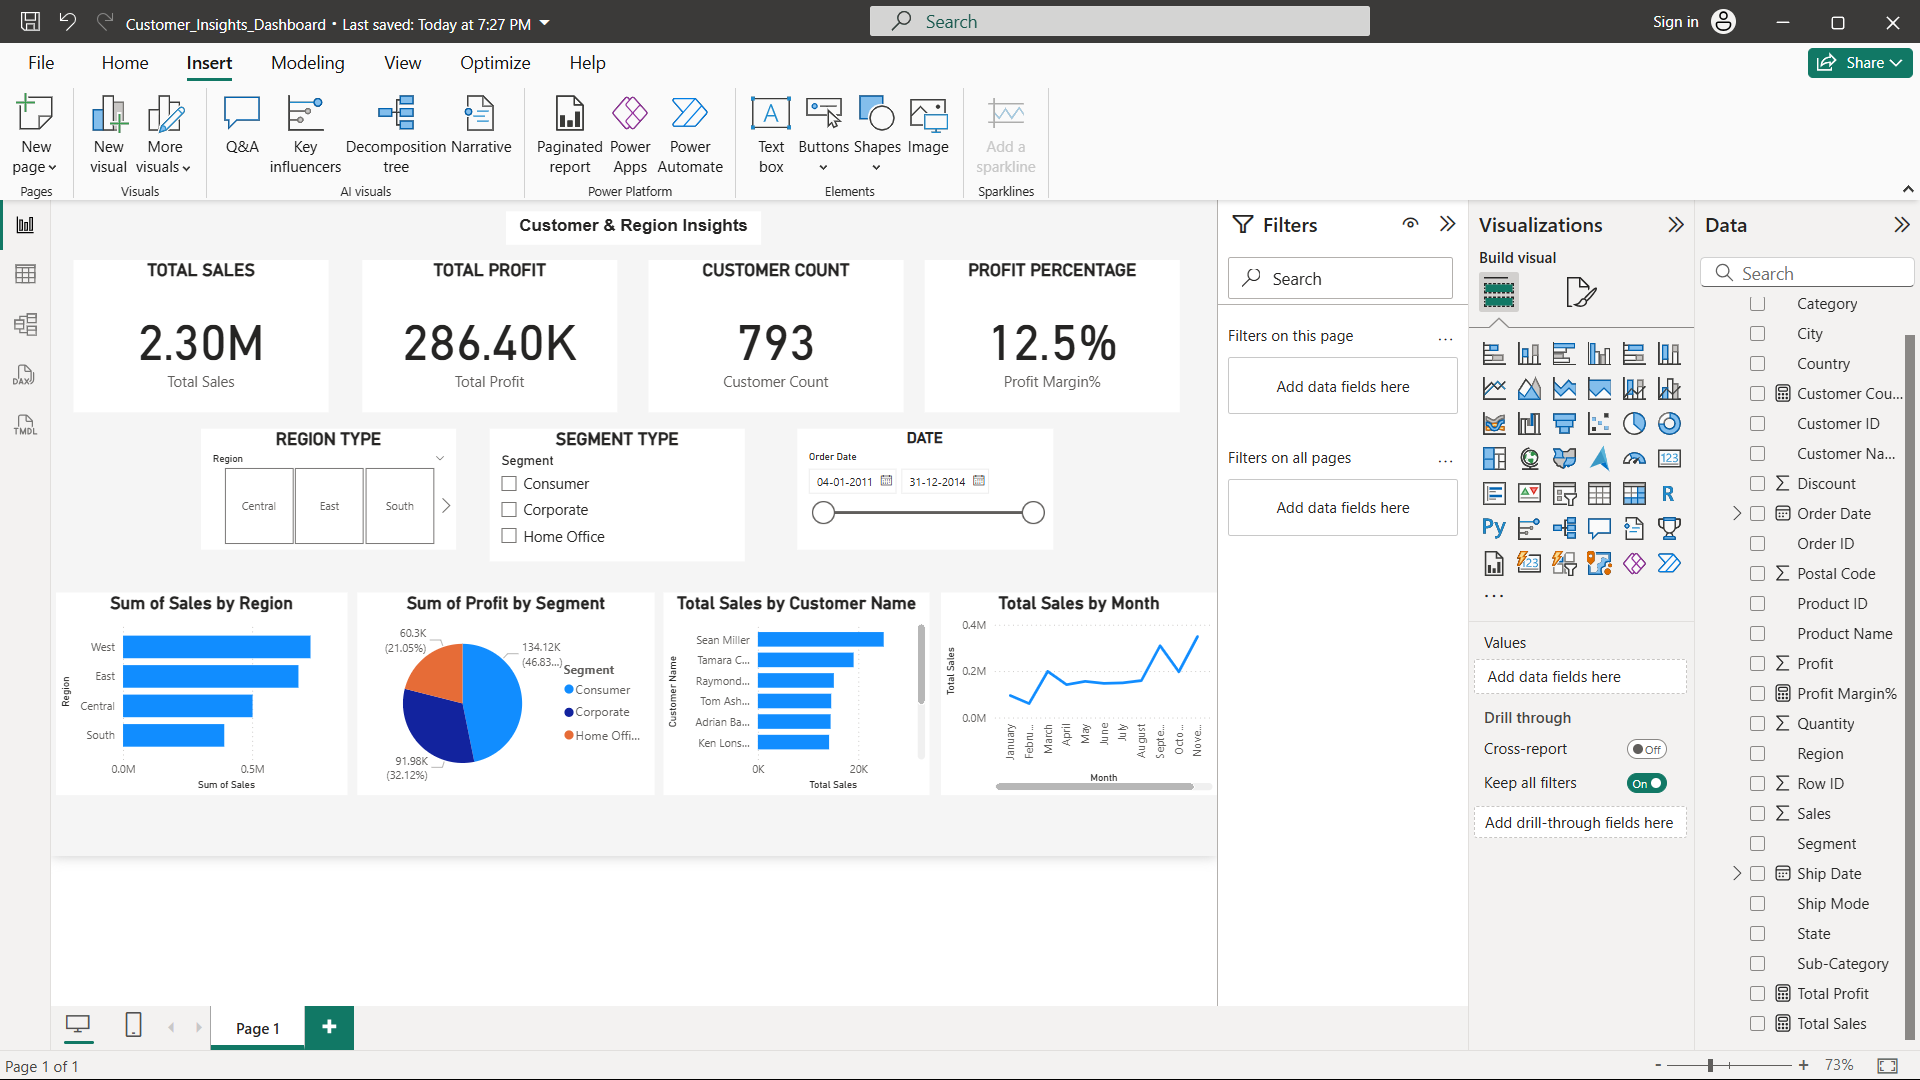

The dashboard page shown, as its layout file describes it:
{"tool":"powerbi","page":{"name":"Page 1","canvas":[1280,720],"ordinal":0},"visuals":[{"type":"card","title":"TOTAL SALES","fields":{"Values":["Superstore.Total Sales"]},"box":[24.7,65.9,279.9,167.4],"z":0},{"type":"card","title":"TOTAL PROFIT","fields":{"Values":["Superstore.Total Profit"]},"box":[341.7,65.9,279.9,167.4],"z":1},{"type":"card","title":"CUSTOMER COUNT","fields":{"Values":["Superstore.Customer Count"]},"box":[655.9,65.9,279.9,167.4],"z":2},{"type":"card","title":"PROFIT PERCENTAGE","fields":{"Values":["Superstore.Profit Margin%"]},"box":[959.2,65.9,279.9,167.4],"z":3},{"type":"textbox","box":[499.5,12.3,279.9,37],"z":4},{"type":"clusteredBarChart","fields":{"Y":["Superstore.Sales"],"Category":["Superstore.Region"]},"box":[5.5,430.9,319.7,222.3],"z":5},{"type":"pieChart","fields":{"Y":["Superstore.Profit"],"Category":["Superstore.Segment"]},"box":[336.2,430.9,326.6,222.3],"z":6},{"type":"clusteredBarChart","fields":{"Category":["Superstore.Customer Name"],"Y":["Superstore.Total Sales"]},"box":[672.4,430.9,292.3,222.3],"z":7},{"type":"lineChart","fields":{"Category":["Superstore.Order Date.Variation.Date Hierarchy.Year","Superstore.Order Date.Variation.Date Hierarchy.Quarter","Superstore.Order Date.Variation.Date Hierarchy.Month","Superstore.Order Date.Variation.Date Hierarchy.Day"],"Y":["Superstore.Total Sales"]},"box":[977,430.9,303.3,222.3],"z":8},{"type":"slicer","title":"REGION TYPE","fields":{"Values":["Superstore.Region"]},"box":[164.7,251.1,279.9,133.1],"z":9},{"type":"slicer","title":"SEGMENT TYPE","fields":{"Values":["Superstore.Segment"]},"box":[481.6,251.1,279.9,145.5],"z":10},{"type":"slicer","title":"DATE","fields":{"Values":["Superstore.Order Date"]},"box":[819.2,251.1,279.9,133.1],"z":11}]}

Visuals, with their boxes on the page's 1280x720 design canvas (x1, y1, x2, y2). These are canvas units, not pixel positions in the 1920x1080 screenshot, which may show the page scaled, cropped or inside an application window:
"TOTAL SALES" card: region(25, 66, 305, 233)
"TOTAL PROFIT" card: region(342, 66, 622, 233)
"CUSTOMER COUNT" card: region(656, 66, 936, 233)
"PROFIT PERCENTAGE" card: region(959, 66, 1239, 233)
textbox: region(500, 12, 779, 49)
clusteredBarChart - Superstore.Sales x Superstore.Region: region(6, 431, 325, 653)
pieChart - Superstore.Profit x Superstore.Segment: region(336, 431, 663, 653)
clusteredBarChart - Superstore.Customer Name x Superstore.Total Sales: region(672, 431, 965, 653)
lineChart - Superstore.Order Date.Variation.Date Hierarchy.Year x Superstore.Order Date.Variation.Date Hierarchy.Quarter: region(977, 431, 1280, 653)
"REGION TYPE" slicer: region(165, 251, 445, 384)
"SEGMENT TYPE" slicer: region(482, 251, 762, 397)
"DATE" slicer: region(819, 251, 1099, 384)
